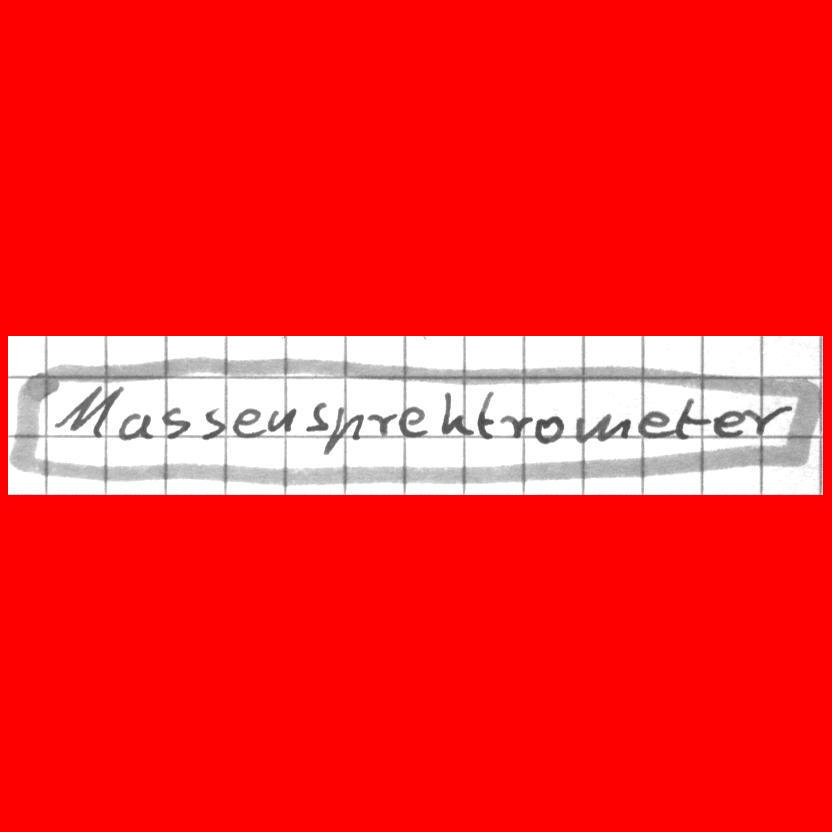Char: (52, 382, 123, 442), (323, 402, 364, 456), (574, 408, 632, 446), (743, 399, 792, 438), (675, 395, 711, 440), (439, 389, 473, 435), (231, 403, 269, 440), (160, 403, 195, 442), (114, 410, 154, 442), (709, 406, 746, 437), (636, 409, 675, 438), (476, 390, 499, 439), (365, 406, 399, 438), (397, 403, 427, 439), (200, 405, 230, 440), (533, 412, 564, 443), (264, 405, 297, 434), (499, 412, 534, 439), (307, 401, 331, 432)
